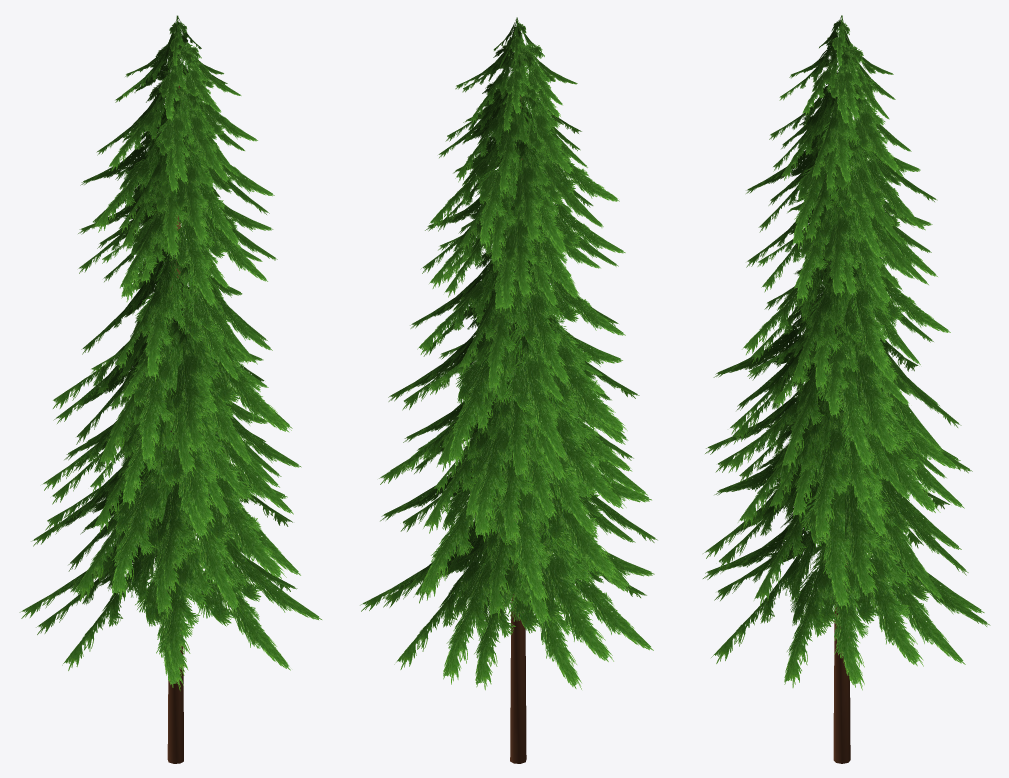
Rendered from Pine_Stylized_05_Tree.glb.
3 views of the same model, side by side, from view 1: azimuth 30°, elevation 25°; view 2: azimuth 150°, elevation 25°; view 3: azimuth 270°, elevation 25° (orthographic).
Visible parts, largest first — view 1: Cylinder.004_1, Cylinder.004_0; view 2: Cylinder.004_1, Cylinder.004_0; view 3: Cylinder.004_1, Cylinder.004_0.
Part boxes in pixels (x1,y1,x2,y2): Cylinder.004_1: [19, 15, 321, 690]; Cylinder.004_0: [167, 86, 183, 763]; Cylinder.004_1: [360, 17, 657, 690]; Cylinder.004_0: [510, 96, 526, 763]; Cylinder.004_1: [703, 15, 990, 690]; Cylinder.004_0: [833, 216, 850, 763].
Bounding box in the file's own units: 3.43 × 9.19 × 3.38.
Materials: 2 (2 with a texture image).
